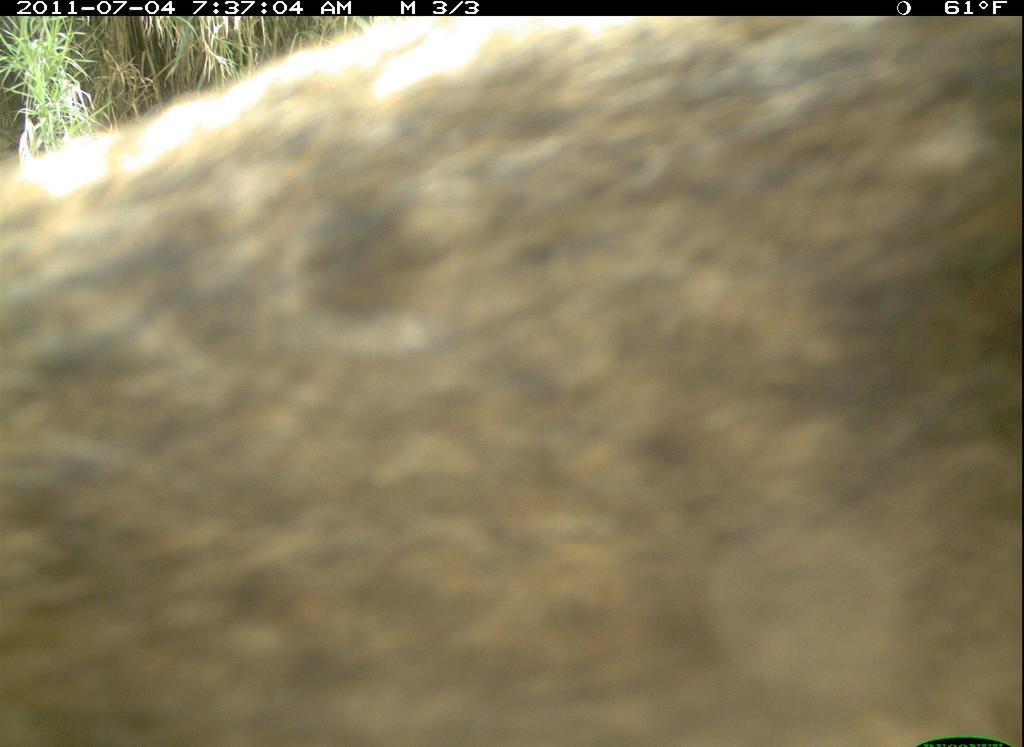coyote: (1, 16, 1024, 747)
